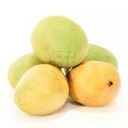mango: (12, 63, 69, 115)
